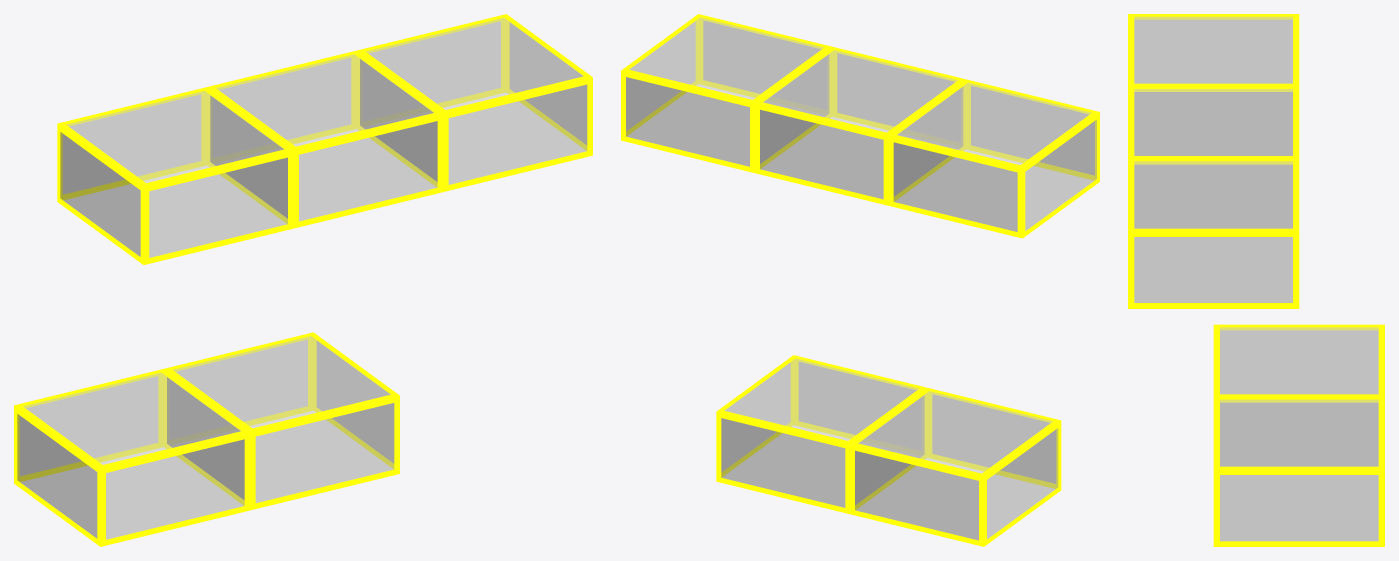
Rendered from (3)H Plat.fbx.
The picture shows the model from 3 angles, left to right: view 1: azimuth 30°, elevation 25°; view 2: azimuth 150°, elevation 25°; view 3: azimuth 270°, elevation 25°; orthographic projection. The views are drawn at different scales.
Parts seen in each view (by area): view 1: Platform.004, Platform.006, Platform.003, Platform.002, Platform.005; view 2: Platform.004, Platform.006, Platform.002, Platform.003, Platform.005; view 3: Platform.002, Platform.005, Platform.004, Platform.003, Platform.006.
Part boxes in pixels (x1,y1,x2,y2): Platform.004: (57, 87, 293, 264); Platform.006: (14, 369, 250, 546); Platform.003: (207, 50, 443, 228); Platform.002: (356, 14, 592, 191); Platform.005: (163, 332, 399, 510); Platform.004: (888, 79, 1099, 238); Platform.006: (850, 388, 1061, 546); Platform.002: (621, 14, 832, 172); Platform.003: (755, 46, 965, 205); Platform.005: (716, 355, 927, 514); Platform.002: (1128, 158, 1299, 308); Platform.005: (1213, 397, 1384, 546); Platform.004: (1128, 14, 1299, 153); Platform.003: (1128, 86, 1299, 226); Platform.006: (1213, 324, 1384, 463).
Bounding box in the file's own units: 600 × 500 × 300.
